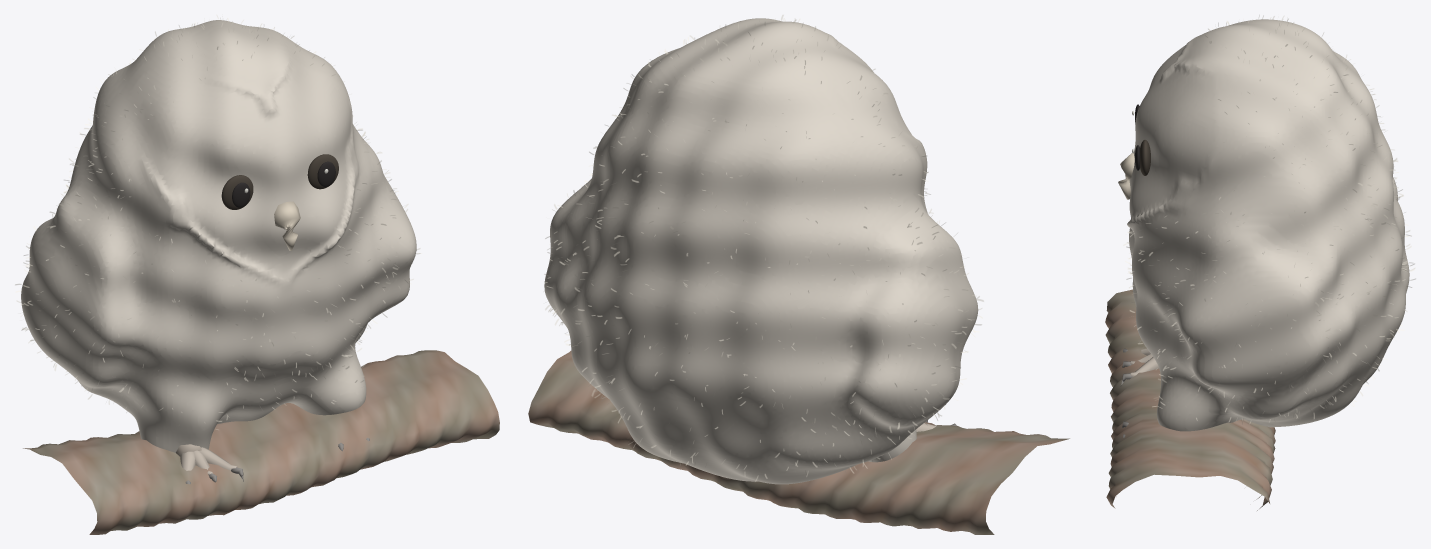
The model's file is owl172_run91_flat_cream_pbr_explicit_normals_ART_REJECTED.glb.
3 views of the same model, side by side, from view 1: azimuth 30°, elevation 25°; view 2: azimuth 150°, elevation 25°; view 3: azimuth 270°, elevation 25° (orthographic). The views are drawn at different scales.
Parts seen in each view (by area): view 1: ORGANIC_CONNECTED_HEAD_BODY_HEART_RELIEF, TEMPORARY_BARK_SUPPORT_RESEARCH_ONLY, soft_alpha_mesoptile_research_groom, ivory_hooked_bill; view 2: ORGANIC_CONNECTED_HEAD_BODY_HEART_RELIEF, TEMPORARY_BARK_SUPPORT_RESEARCH_ONLY, soft_alpha_mesoptile_research_groom; view 3: ORGANIC_CONNECTED_HEAD_BODY_HEART_RELIEF, TEMPORARY_BARK_SUPPORT_RESEARCH_ONLY, soft_alpha_mesoptile_research_groom, ivory_hooked_bill.
Part boxes in pixels (<box>): ORGANIC_CONNECTED_HEAD_BODY_HEART_RELIEF: <box>21,20,416,452</box>; TEMPORARY_BARK_SUPPORT_RESEARCH_ONLY: <box>23,350,499,534</box>; soft_alpha_mesoptile_research_groom: <box>15,15,421,429</box>; ivory_hooked_bill: <box>274,201,300,250</box>; ORGANIC_CONNECTED_HEAD_BODY_HEART_RELIEF: <box>544,18,978,484</box>; TEMPORARY_BARK_SUPPORT_RESEARCH_ONLY: <box>528,351,1069,534</box>; soft_alpha_mesoptile_research_groom: <box>544,15,983,481</box>; ORGANIC_CONNECTED_HEAD_BODY_HEART_RELIEF: <box>1127,19,1409,431</box>; TEMPORARY_BARK_SUPPORT_RESEARCH_ONLY: <box>1105,289,1275,510</box>; soft_alpha_mesoptile_research_groom: <box>1123,15,1415,423</box>; ivory_hooked_bill: <box>1118,153,1134,199</box>.
Bounding box in the file's own units: 1.3 × 1.35 × 0.8863.
2 materials, 1 textured.
